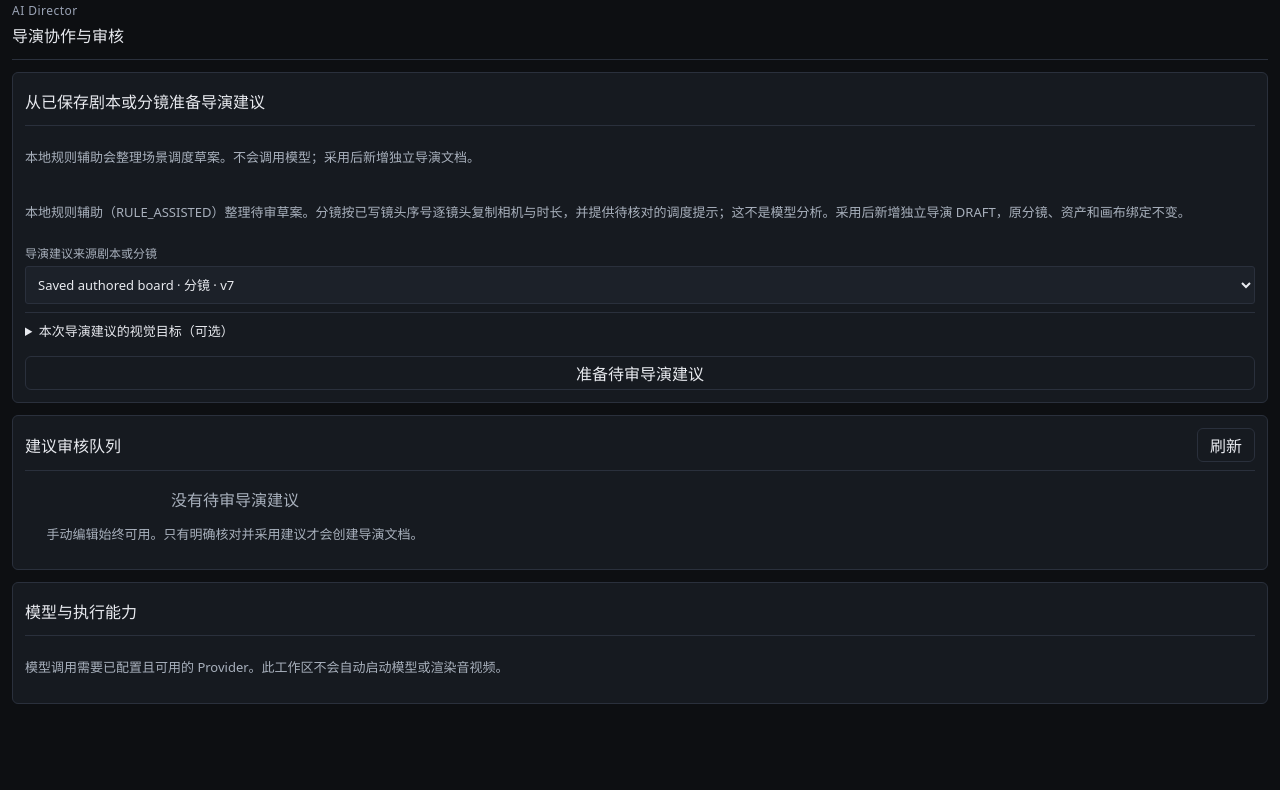
Test: retires old prepare synchronously before a React paint on review edit
Expected: the text "没有待审导演建议" is shown, [171,489,299,511]
What coordinates should you click on to do the following:
click the button "准备待审导演建议"
I would click on:
 (640, 373)
Its box is [25,356,1255,390].
(page scrolled)
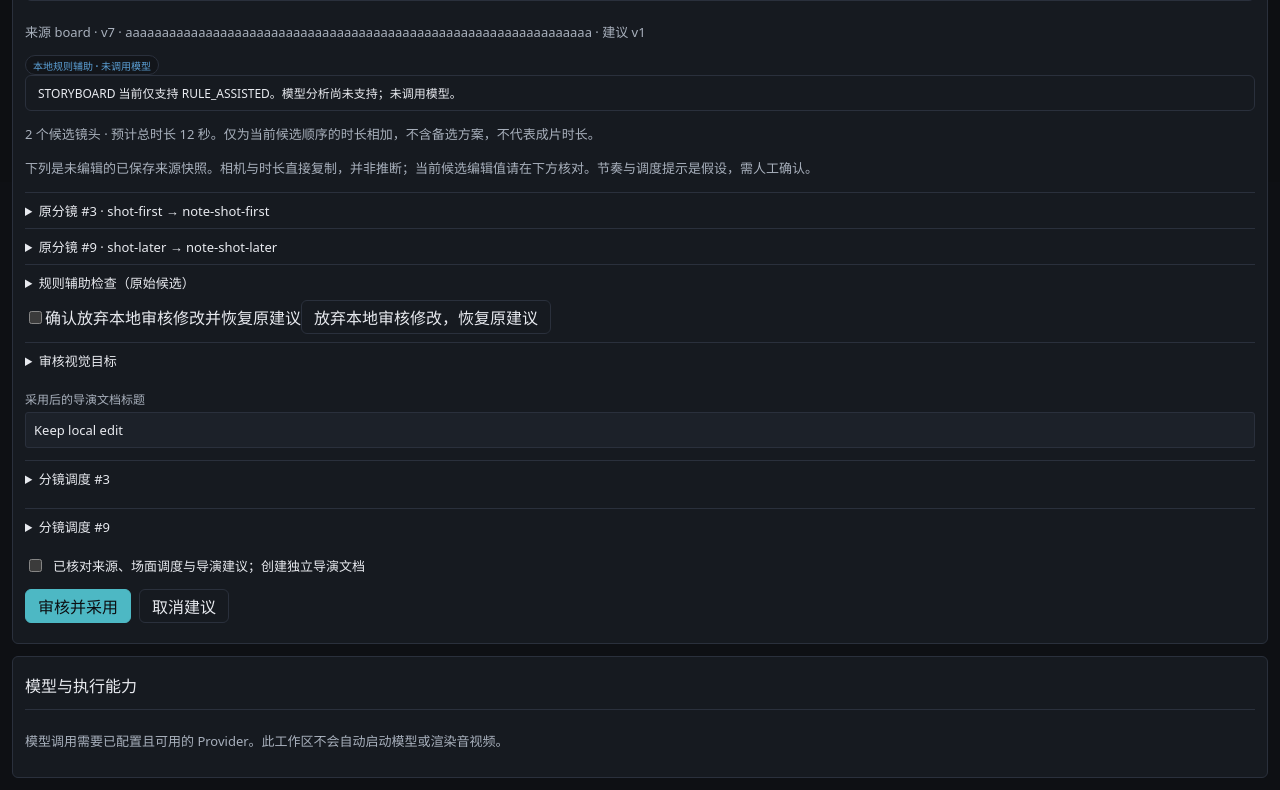
Expected: the field labelled "采用后的导演文档标题" holds "Keep local edit", [25,412,1255,448]
